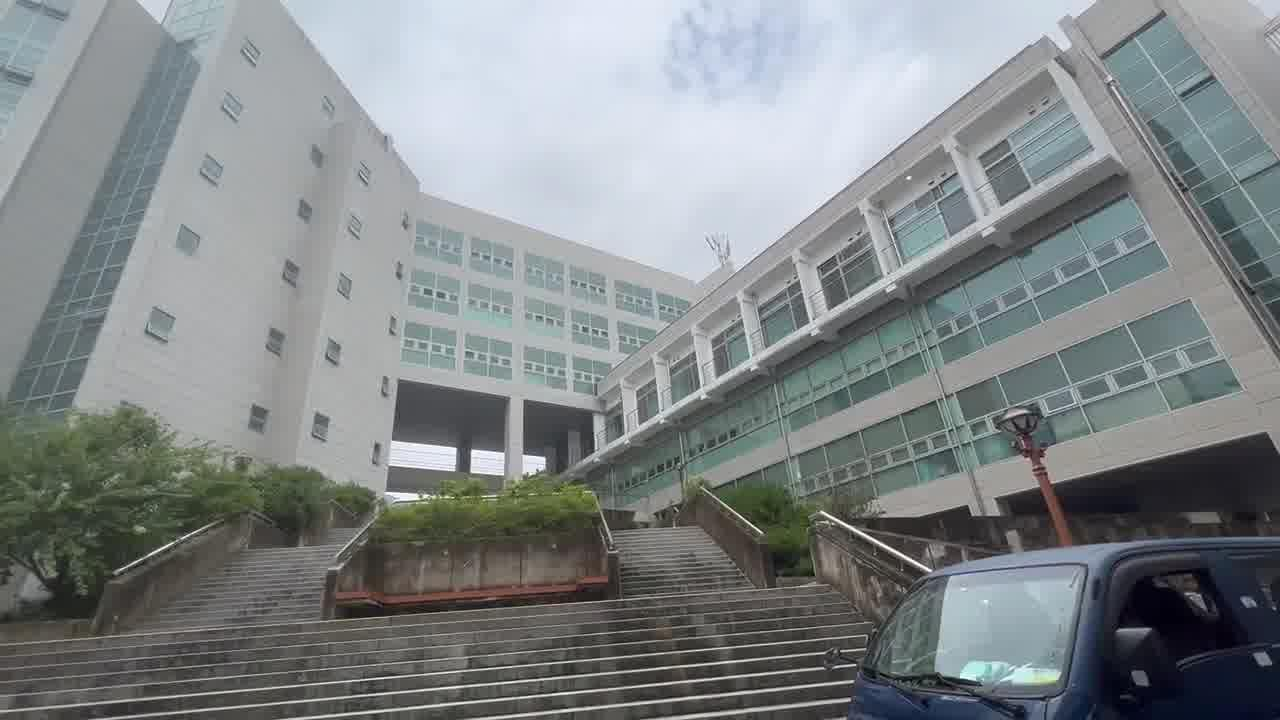building: (0, 16, 1252, 416)
